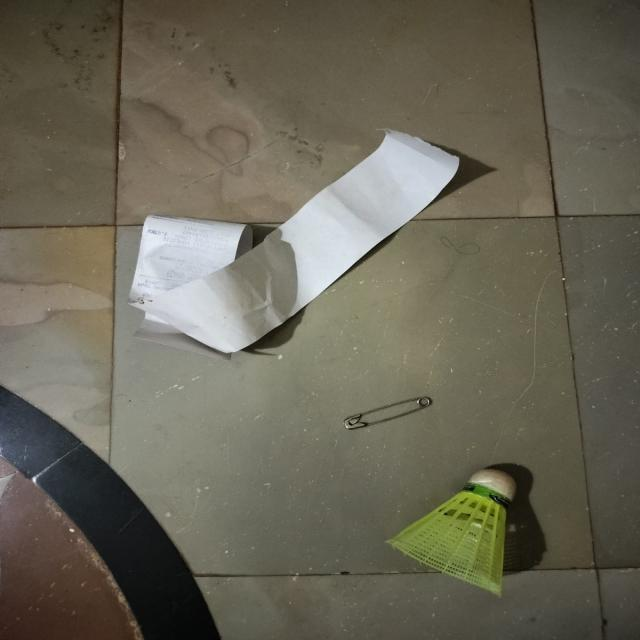dry: (130, 125, 463, 352), (385, 465, 518, 599), (340, 395, 435, 432)
